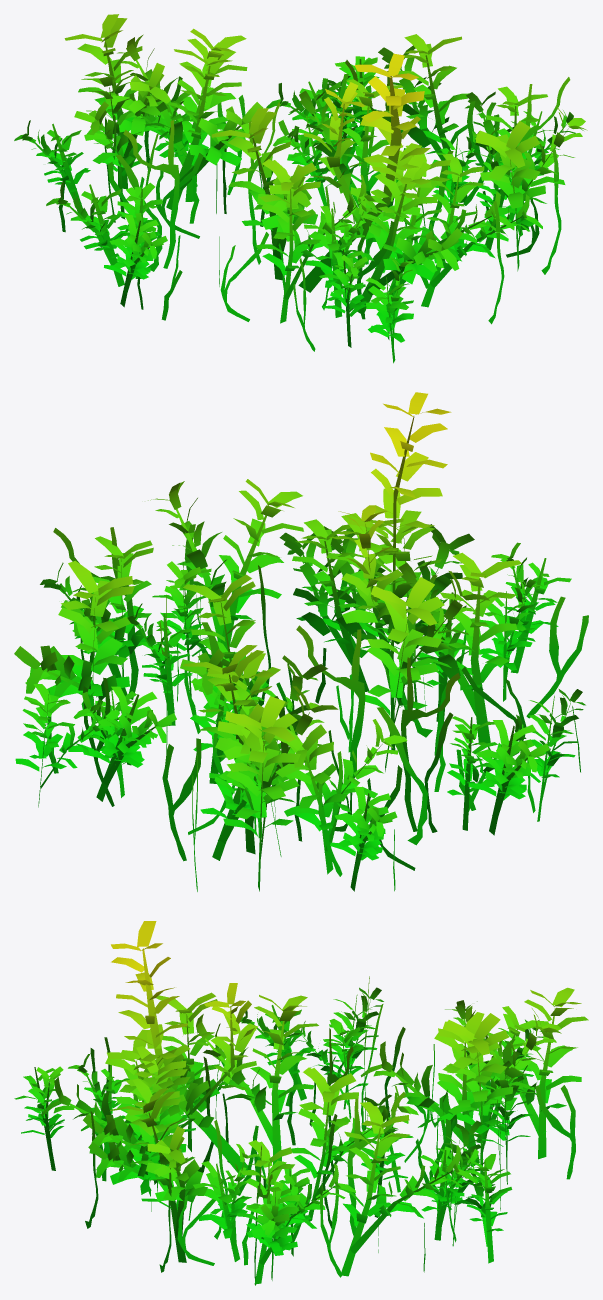
Rendered from Lingonberry_LOD3_Var12_wjhjahlqx.fbx.
3 renders of one model, top to bottom at view 1: azimuth 30°, elevation 25°; view 2: azimuth 150°, elevation 25°; view 3: azimuth 270°, elevation 25°, orthographic. The views are drawn at different scales.
Visible parts, largest first — view 1: _3a9k_Var12_LOD3; view 2: _3a9k_Var12_LOD3; view 3: _3a9k_Var12_LOD3.
Boxes of the visible parts, x1,y1,x2,y2 form: _3a9k_Var12_LOD3: (14, 14, 587, 363); _3a9k_Var12_LOD3: (14, 392, 588, 891); _3a9k_Var12_LOD3: (14, 921, 588, 1285).
Bounding box in the file's own units: 48.65 × 25.96 × 50.6.
